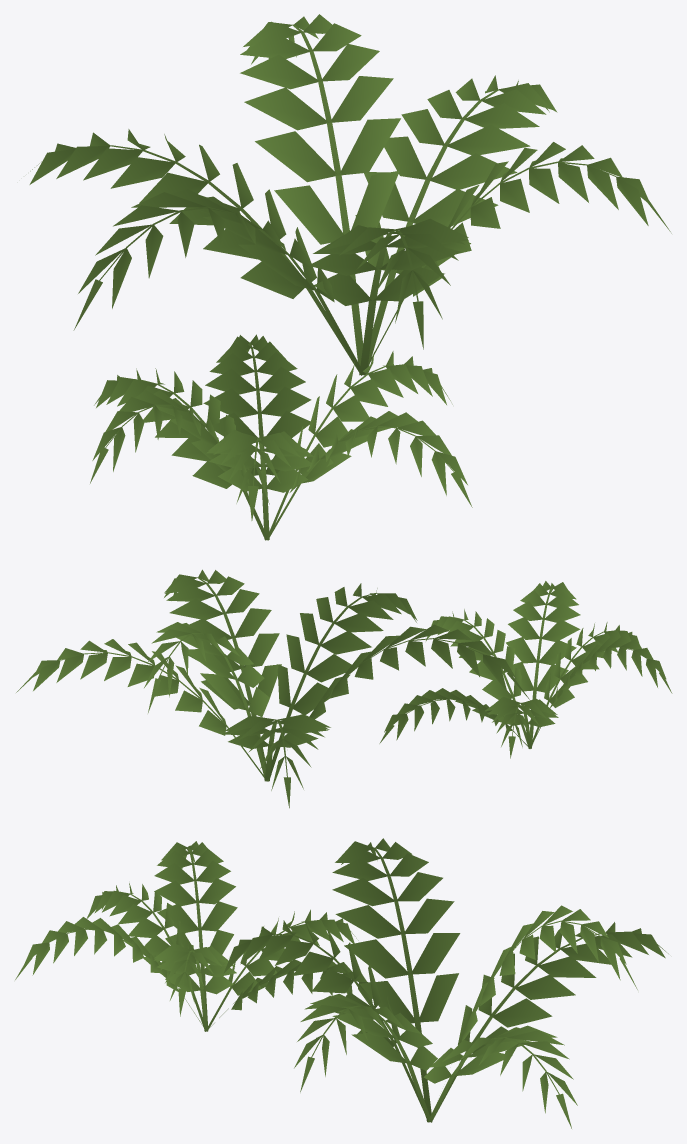
Rendered from ForestFern_93.glb.
3 renders of one model, top to bottom at view 1: azimuth 30°, elevation 25°; view 2: azimuth 150°, elevation 25°; view 3: azimuth 270°, elevation 25°, orthographic. The views are drawn at different scales.
Visible parts, largest first — view 1: ForestFern_93; view 2: ForestFern_93; view 3: ForestFern_93.
Part boxes in pixels (left/top/right/bottom): ForestFern_93: left=29, top=14, right=671, bottom=540; ForestFern_93: left=16, top=569, right=672, bottom=808; ForestFern_93: left=15, top=838, right=668, bottom=1128.
Bounding box in the file's own units: 1.36 × 0.5106 × 1.42.
